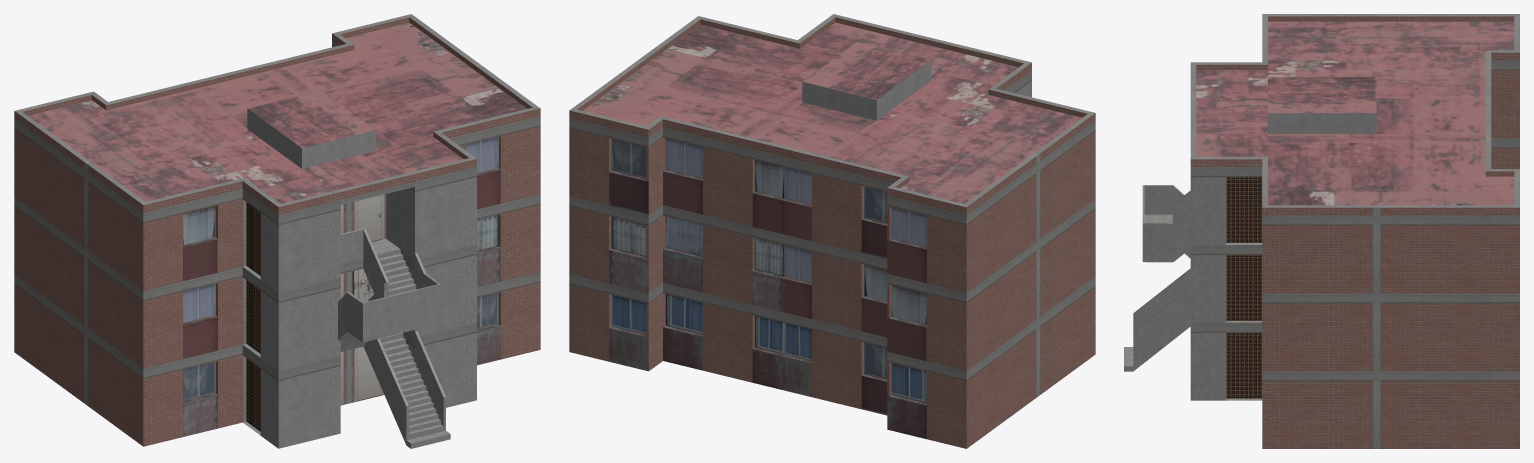
Rendered from mx_multifam_3.fbx.
3 renders of one model, left to right at view 1: azimuth 30°, elevation 25°; view 2: azimuth 150°, elevation 25°; view 3: azimuth 270°, elevation 25°, orthographic.
Parts seen in each view (by area): view 1: Box001; view 2: Box001; view 3: Box001.
Part boxes in pixels (left/top/right/bottom): Box001: left=14, top=14, right=540, bottom=448; Box001: left=569, top=14, right=1095, bottom=448; Box001: left=1124, top=14, right=1519, bottom=448.
Size of the model in its own units: 16 by 9.9 by 13.82.
